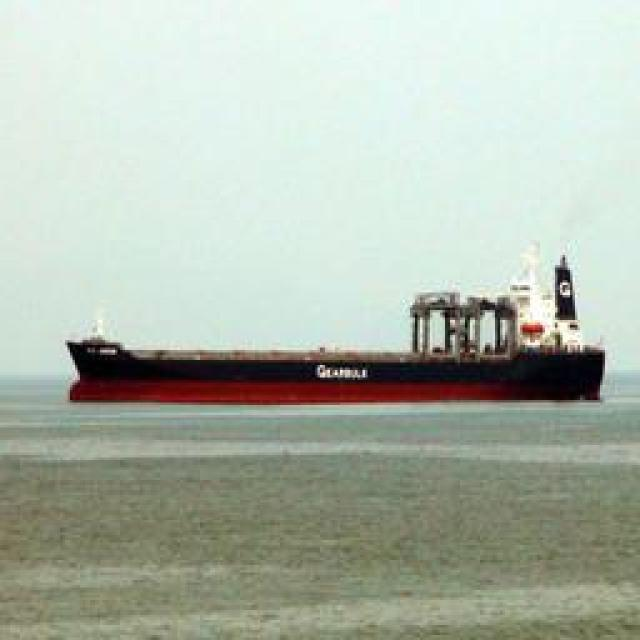CIV_Ship: (68, 286, 620, 409)
